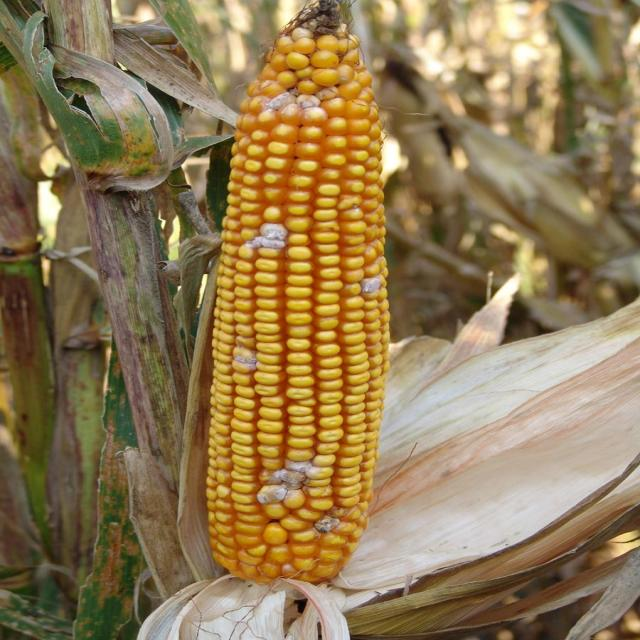corn: (144, 0, 465, 608)
